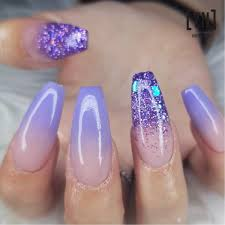nail: (13, 76, 65, 174), (129, 69, 176, 167), (70, 84, 113, 188), (180, 81, 225, 152), (23, 19, 88, 59)
